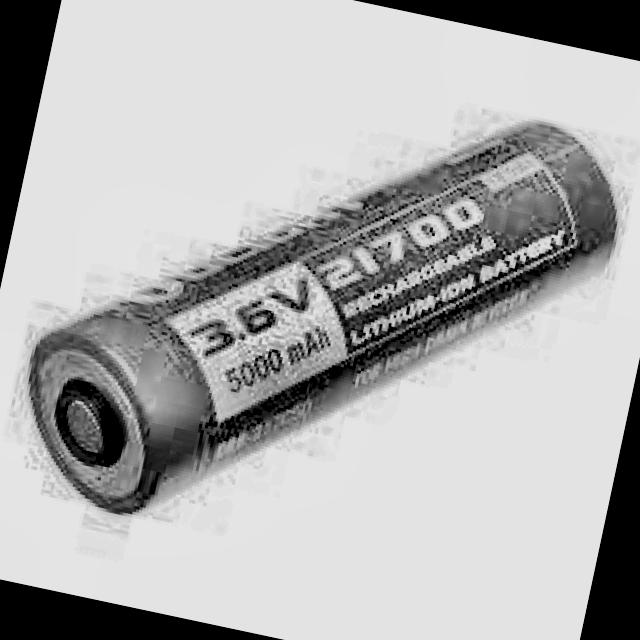Battery: (6, 30, 634, 598)
